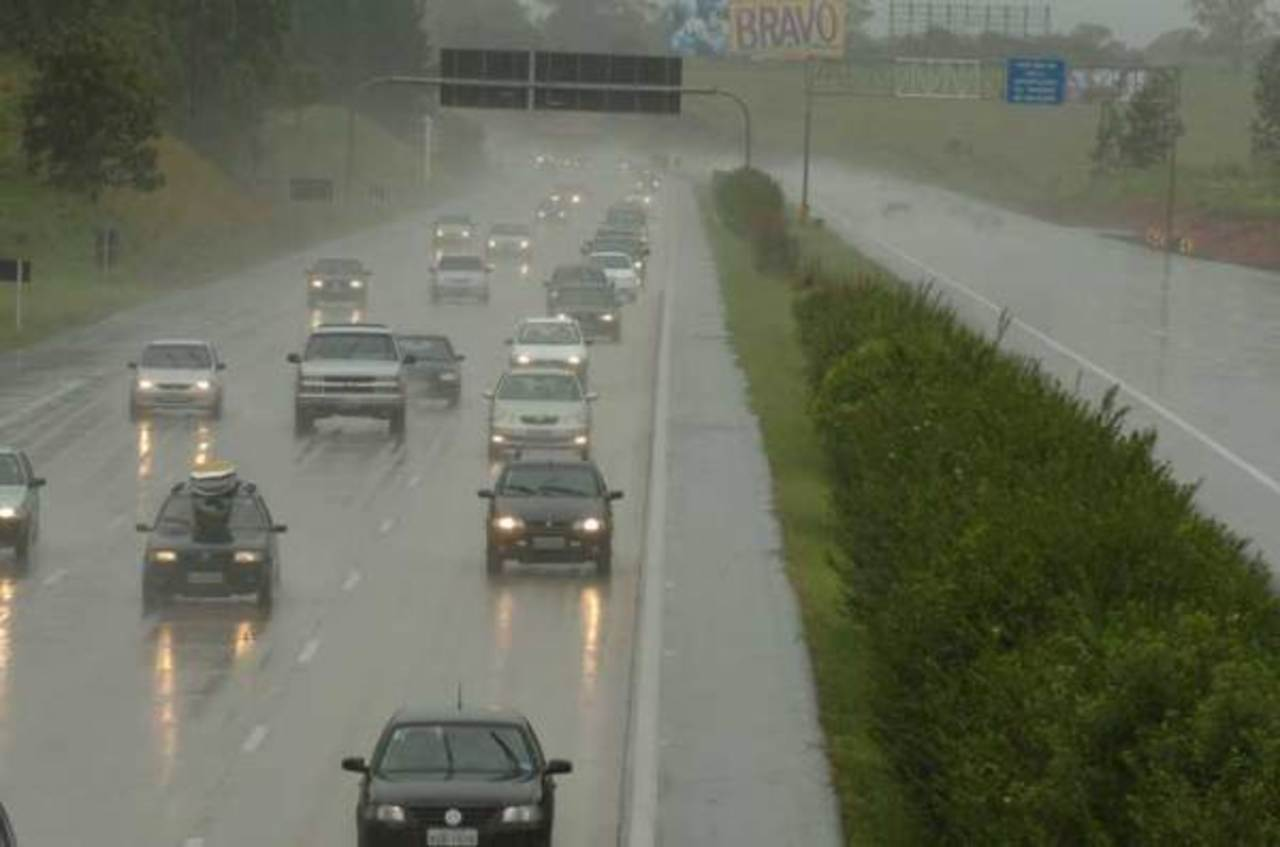car: (349, 707, 566, 846), (137, 473, 281, 610), (480, 457, 620, 579), (291, 323, 410, 439), (485, 366, 592, 471), (130, 336, 227, 419), (504, 315, 592, 395), (3, 445, 45, 565), (400, 331, 466, 404), (302, 255, 371, 299), (560, 289, 629, 329), (428, 253, 487, 296), (585, 245, 634, 287), (480, 218, 531, 251), (428, 213, 470, 243), (542, 271, 605, 291)
